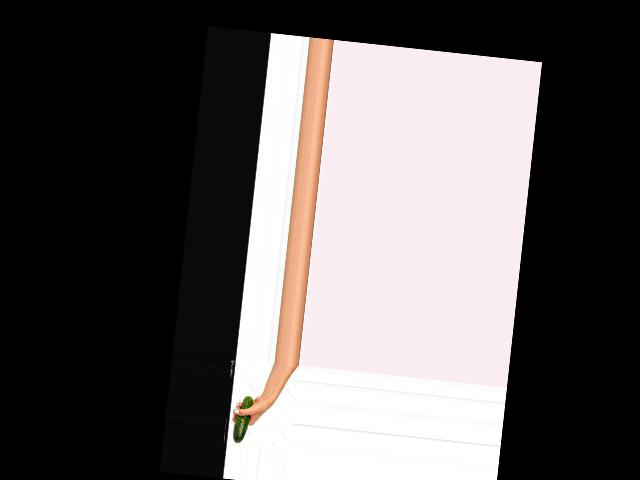cucumber: (231, 395, 253, 444)
